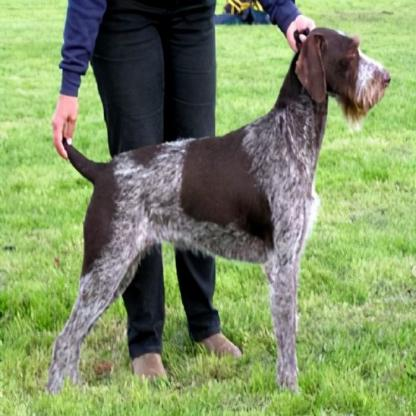dog: (46, 25, 389, 389)
